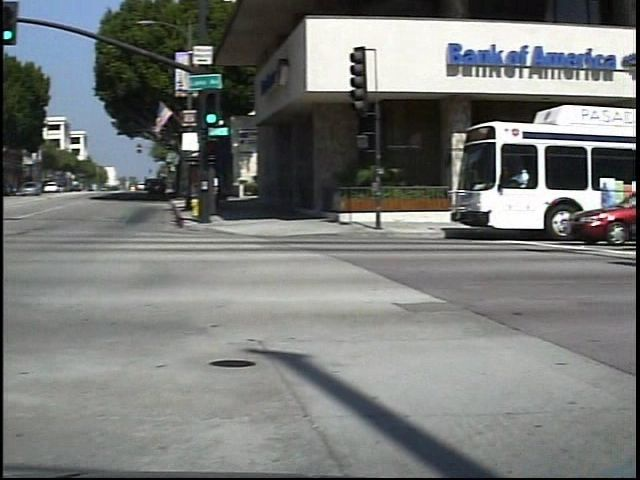person: (216, 167, 239, 217)
